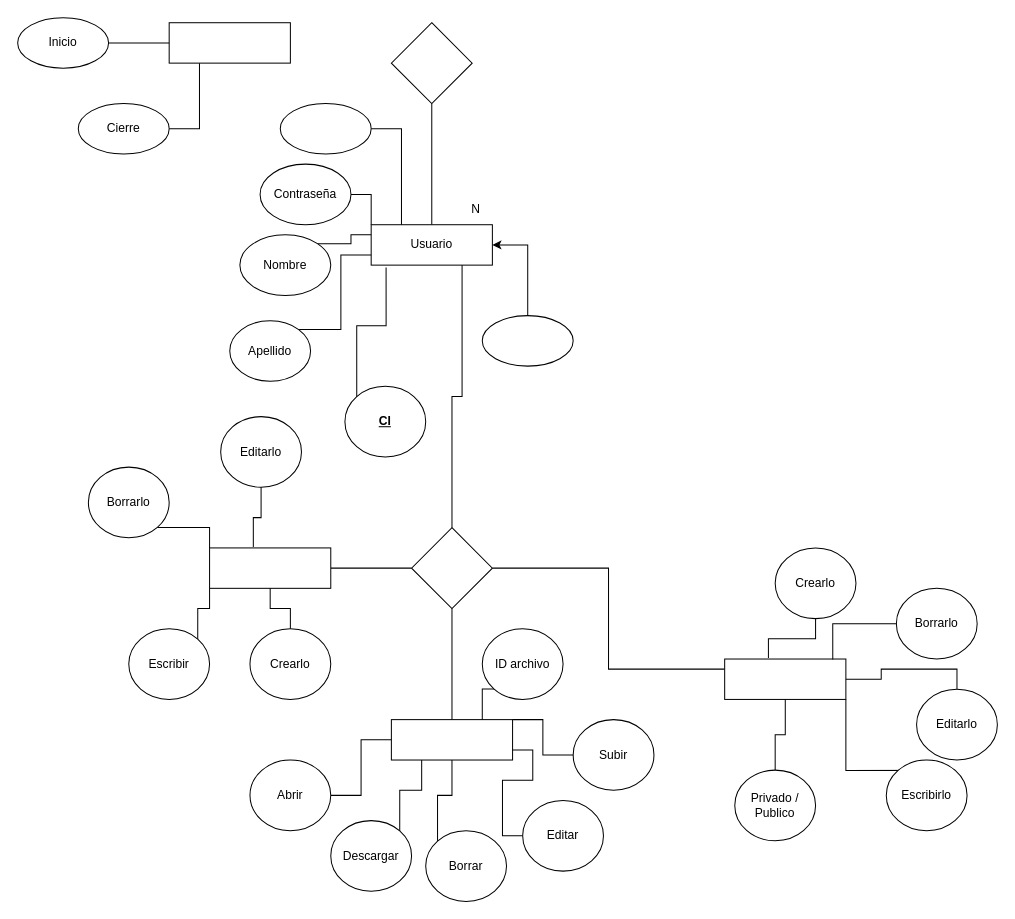
Some shapes in this 1015 by 919 pixel diagram are drawn without their labels. Here are the shapes that lost their labels. From the top down, the centre of each, then its label:
point (229, 42): Horario
point (431, 63): Conecta
point (325, 128): Curso
point (527, 340): Profesion
point (270, 567): Foro
point (451, 568): Administra
point (785, 678): Apuntes
point (451, 739): Archivos
